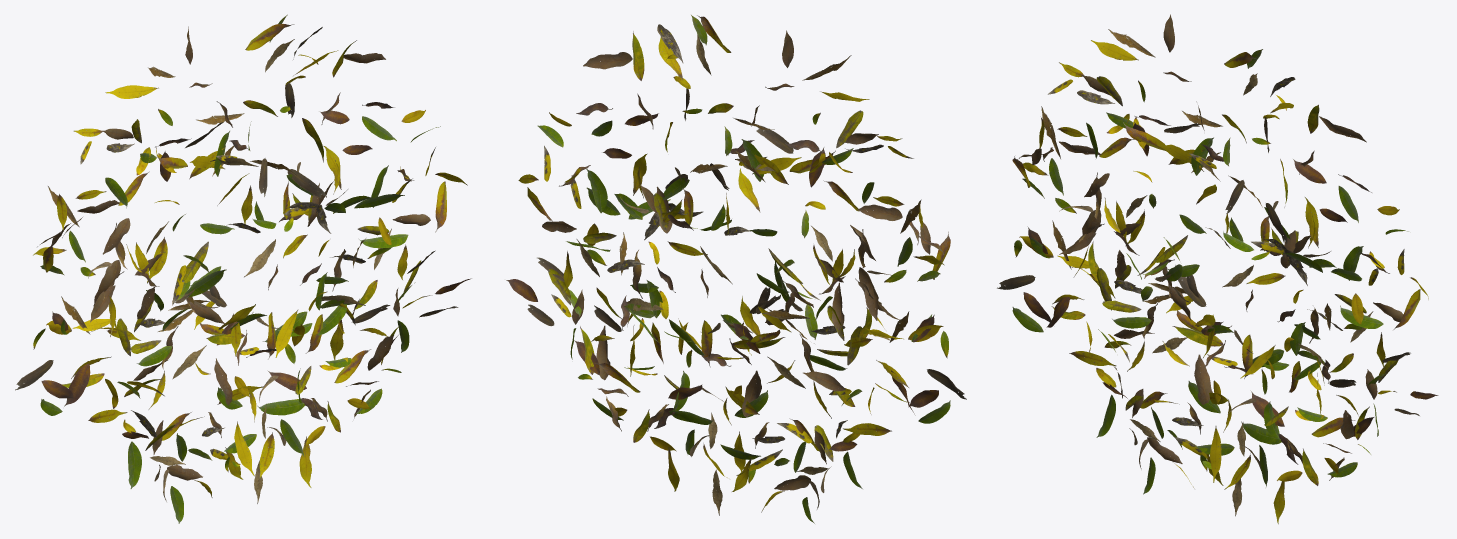
Rendered from Leaf_Pile_03_Var1_LOD0.fbx.
The picture shows the model from 3 angles, left to right: view 1: azimuth 30°, elevation 25°; view 2: azimuth 150°, elevation 25°; view 3: azimuth 330°, elevation 25°; orthographic projection. The views are drawn at different scales.
Parts seen in each view (by area): view 1: Var1_LOD0; view 2: Var1_LOD0; view 3: Var1_LOD0.
Boxes of the visible parts, left/top/right/bottom form: Var1_LOD0: left=15, top=14, right=471, bottom=523; Var1_LOD0: left=506, top=15, right=966, bottom=523; Var1_LOD0: left=997, top=14, right=1438, bottom=524.
Size of the model in its own units: 114 by 118 by 8.33.
